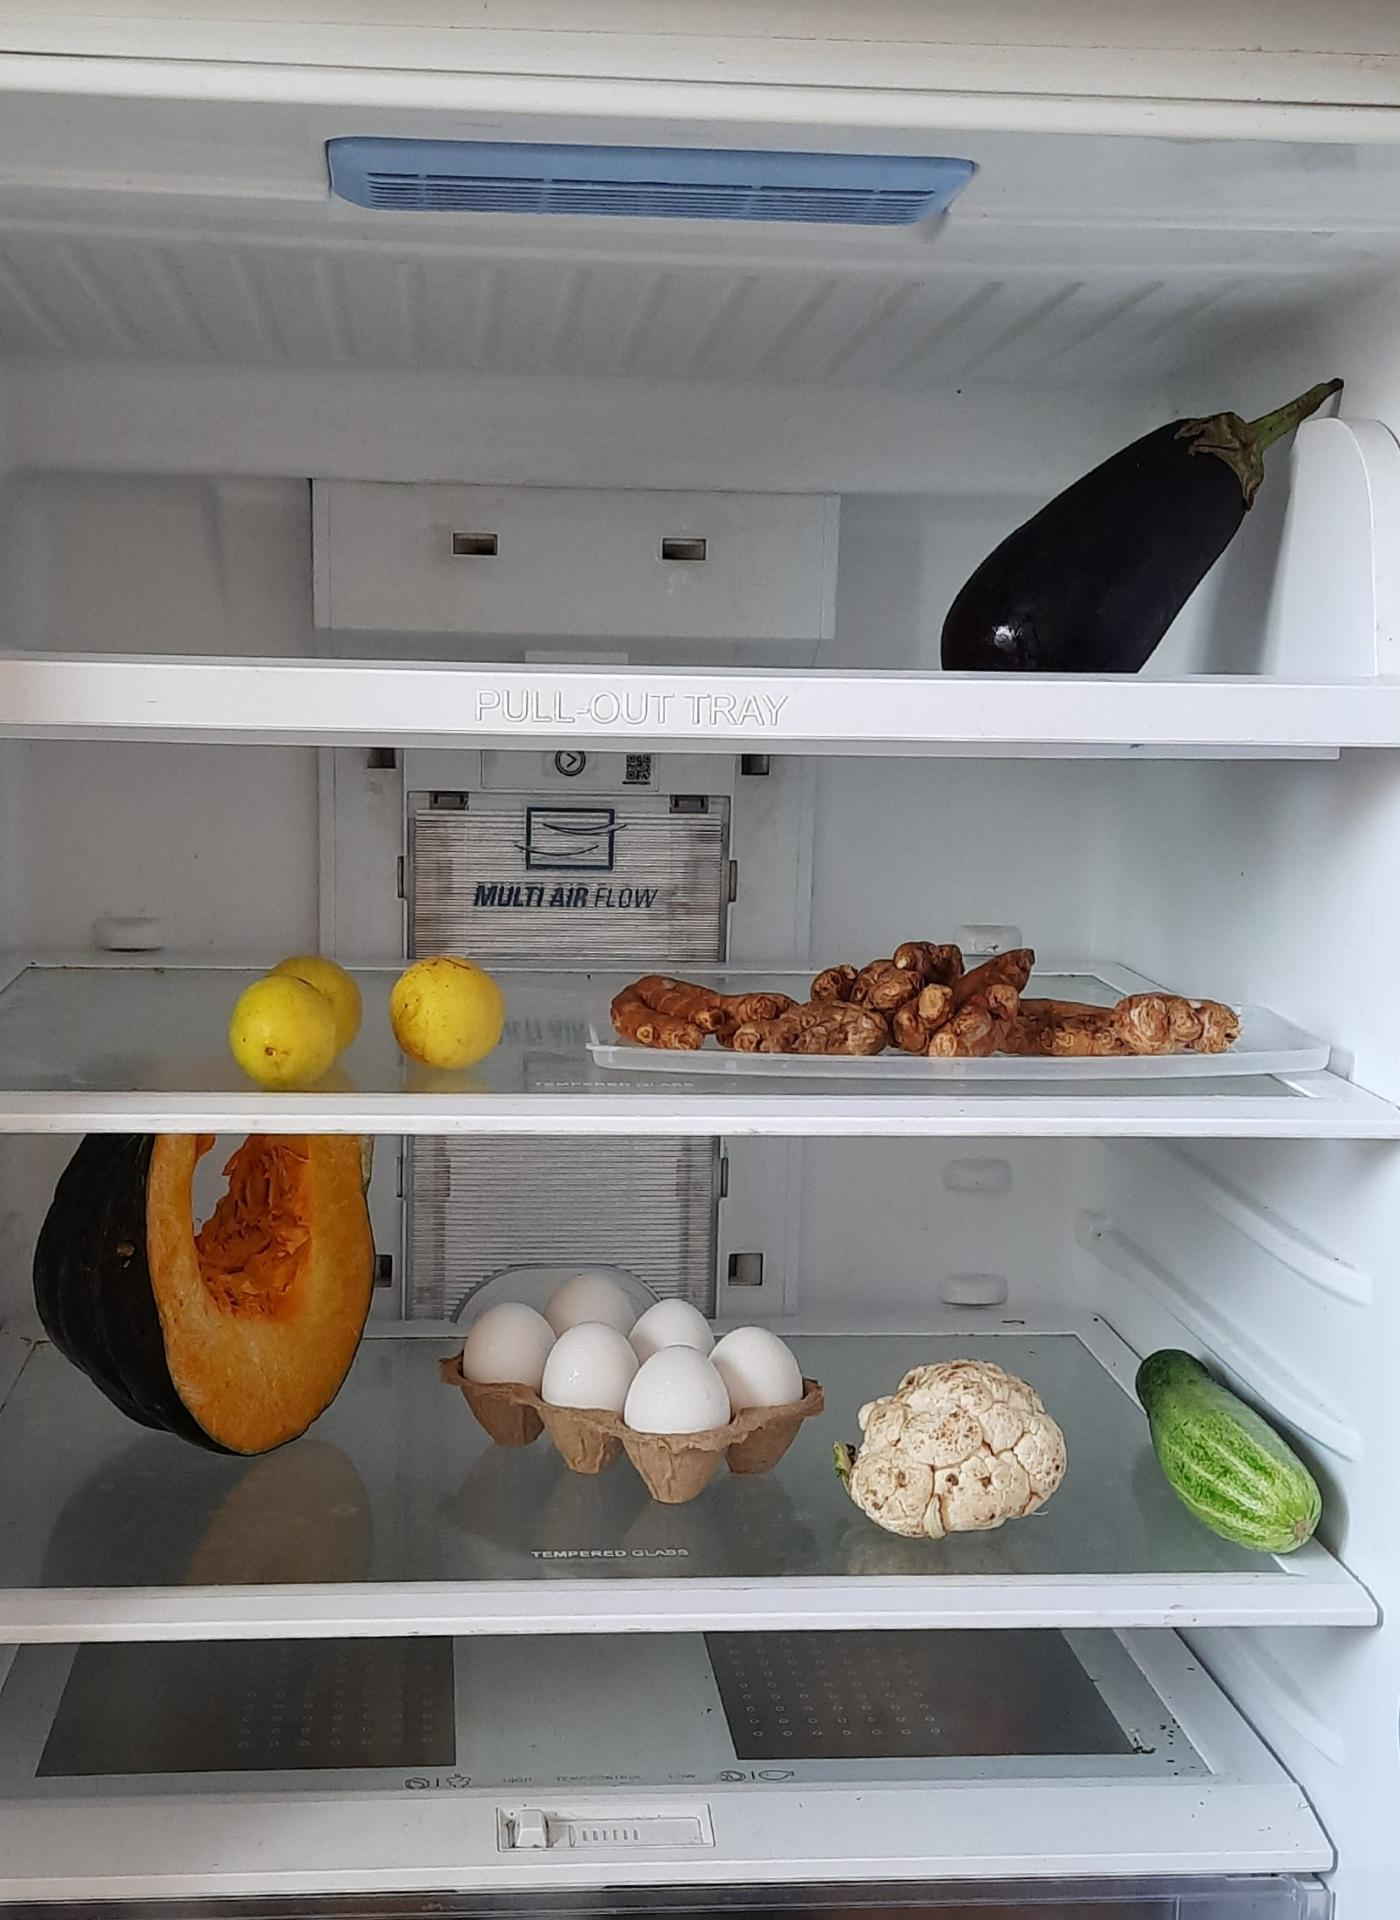brinjal: (927, 361, 1351, 680)
cauliflower: (845, 1354, 1068, 1540)
cucumber: (1118, 1337, 1364, 1568)
egg: (449, 1237, 822, 1507)
ginger: (620, 926, 1236, 1061)
lemon: (228, 948, 367, 1087), (383, 951, 508, 1067)
pumpkin: (30, 1133, 380, 1458)
